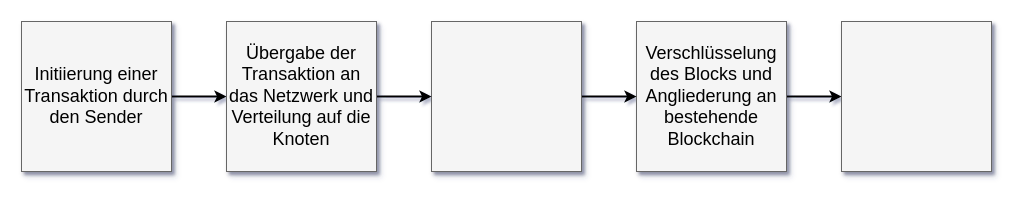
This 1021x202 diagram has some shape labels left out. Each missing label, with the centre of its shape:
Abschluss der Transaktion und Sicherung der Blockchain: the point at 917,97
Prüfung der Transaktion und Validierung durch Konsensbildung: the point at 507,97
